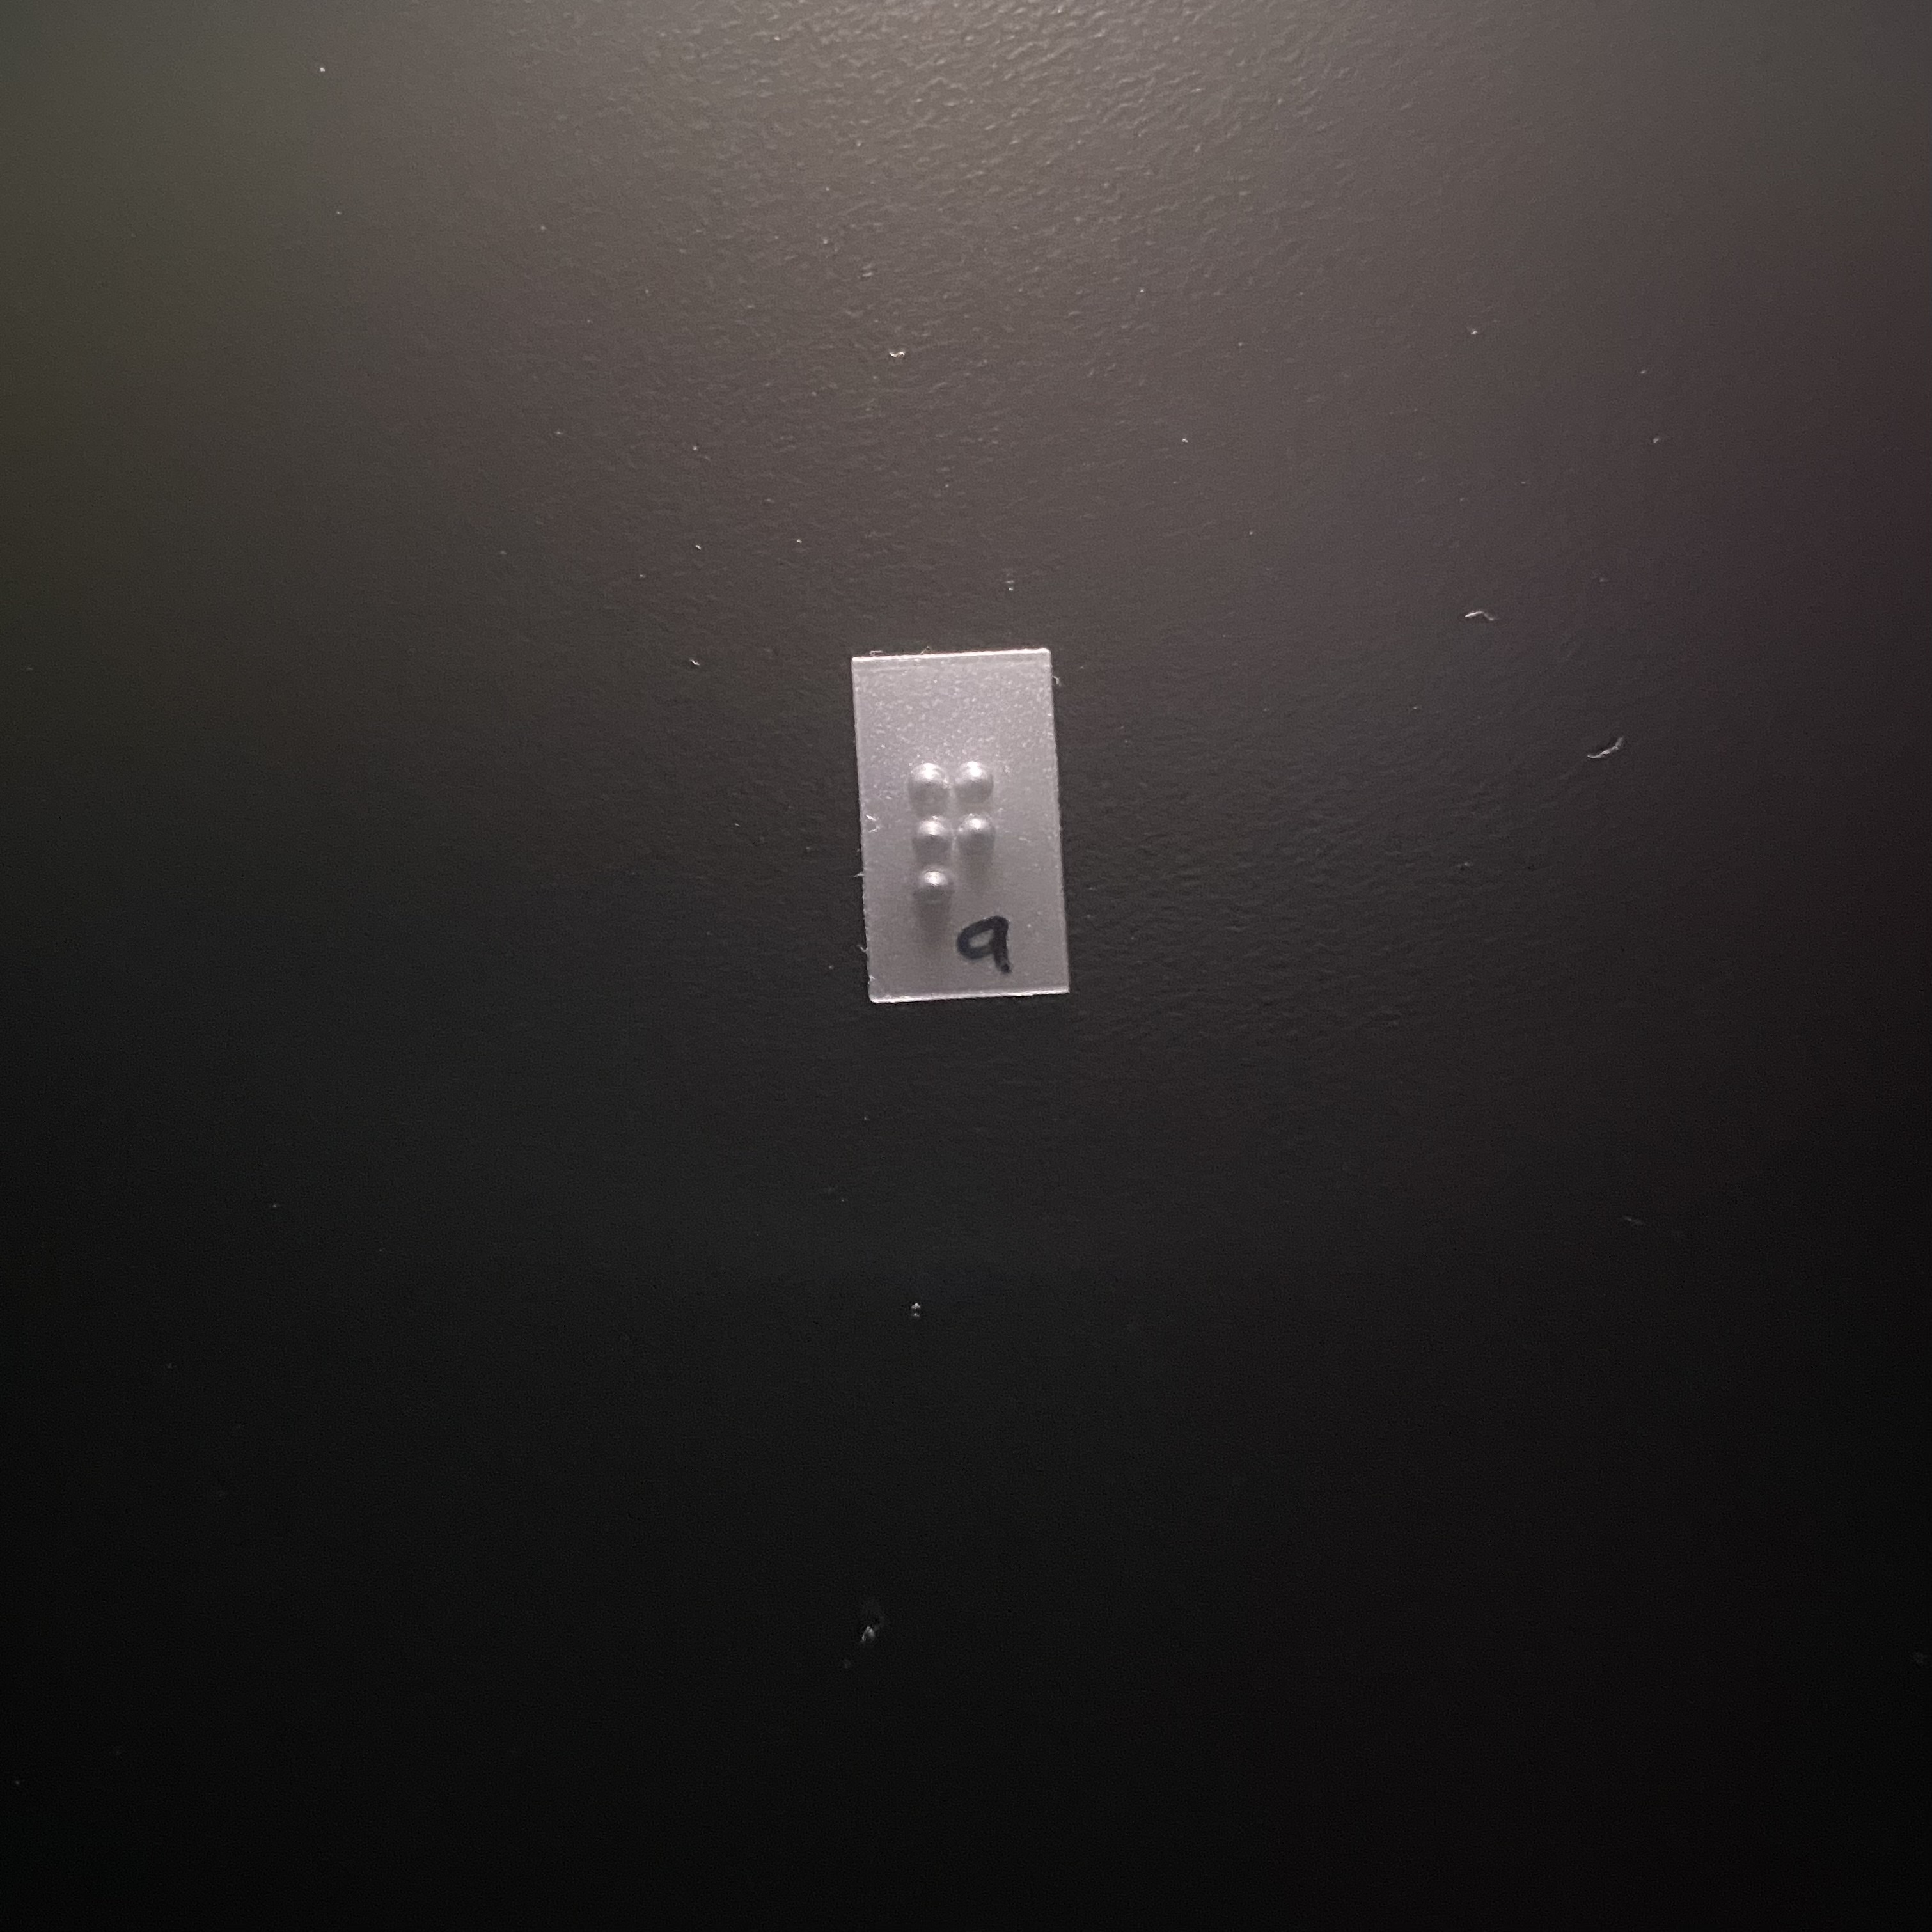q: (900, 751, 1023, 931)
